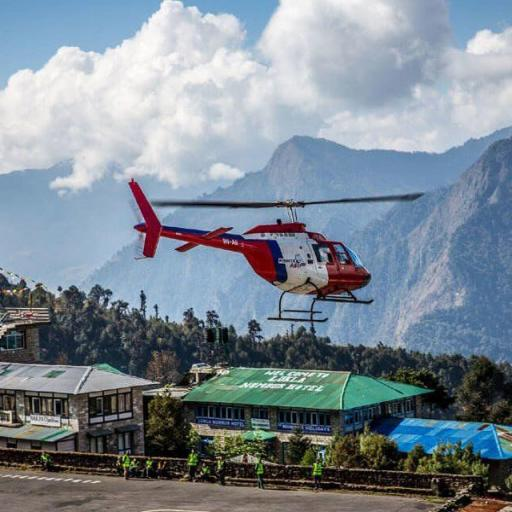helicopter: (120, 154, 431, 335)
